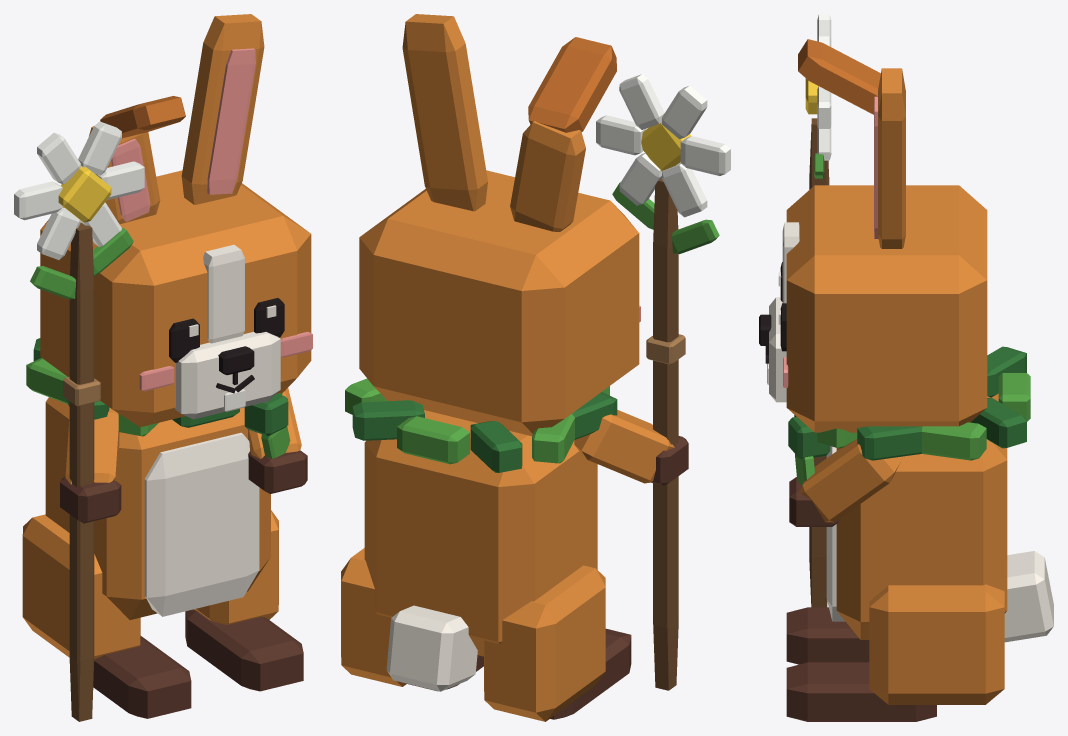
The model's file is Gardien_Prairie_Lievre.glb.
3 renders of one model, left to right at view 1: azimuth 30°, elevation 25°; view 2: azimuth 150°, elevation 25°; view 3: azimuth 270°, elevation 25°, orthographic. The views are drawn at different scales.
Visible parts, largest first — view 1: Corps, Tete, Baton, Oreille_G, Oreille_D, Echarpe, Bras_D, Bras_G, Oeil_D, Oeil_G; view 2: Corps, Tete, Baton, Oreille_D, Oreille_G, Echarpe, Bras_D; view 3: Corps, Tete, Echarpe, Bras_G, Oreille_G, Baton, Oreille_D.
Boxes of the visible parts, bbox=[...] form: Corps: bbox=[22, 397, 303, 718]; Tete: bbox=[40, 170, 312, 427]; Baton: bbox=[14, 121, 144, 721]; Oreille_G: bbox=[181, 14, 264, 204]; Oreille_D: bbox=[89, 96, 185, 224]; Echarpe: bbox=[26, 338, 290, 458]; Bras_D: bbox=[60, 407, 121, 523]; Bras_G: bbox=[248, 387, 307, 493]; Oeil_D: bbox=[169, 318, 199, 362]; Oeil_G: bbox=[254, 298, 284, 337]; Corps: bbox=[341, 410, 631, 721]; Tete: bbox=[359, 170, 640, 436]; Baton: bbox=[596, 74, 730, 690]; Oreille_D: bbox=[510, 37, 616, 231]; Oreille_G: bbox=[402, 14, 487, 211]; Echarpe: bbox=[345, 378, 617, 472]; Bras_D: bbox=[574, 410, 688, 485]; Corps: bbox=[786, 393, 1053, 721]; Tete: bbox=[759, 185, 987, 432]; Echarpe: bbox=[788, 346, 1030, 485]; Bras_G: bbox=[789, 439, 900, 526]; Oreille_G: bbox=[874, 68, 905, 248]; Baton: bbox=[805, 14, 831, 607]; Oreille_D: bbox=[798, 39, 880, 114].
Bounding box in the file's own units: 7.83 × 16.15 × 6.76.
1 material, 1 textured.
